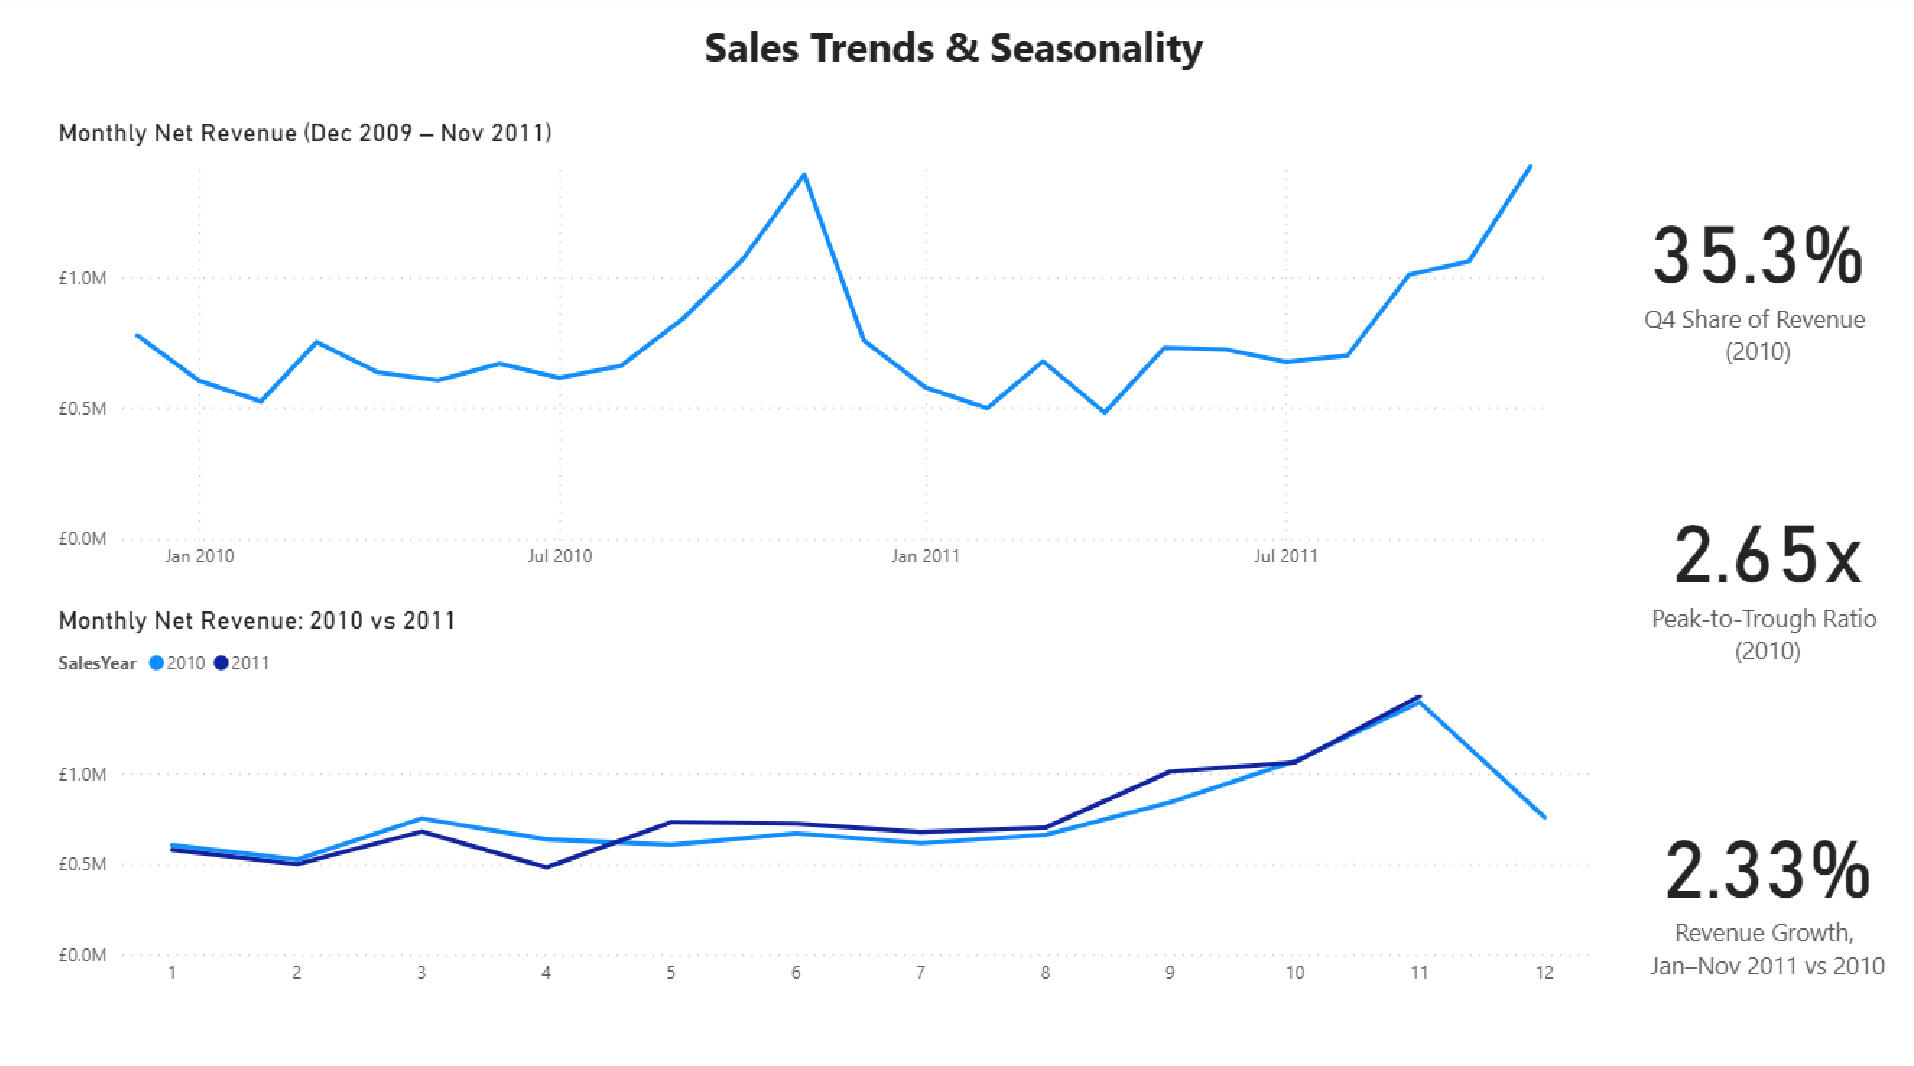

Layout of this report page (visuals, bound fields, positions):
{"tool":"powerbi","page":{"name":"Trends & Seasonality","canvas":[1280,720],"ordinal":1},"visuals":[{"type":"textbox","box":[415.8,12.3,446,57.6],"z":0},{"type":"lineChart","title":"Monthly Net Revenue (Dec 2009 – Nov 2011)","fields":{"Category":["vw_monthly_sales.MonthStart"],"Y":["Sum(vw_monthly_sales.NetRevenue)"]},"box":[35.7,82.3,1015.4,311.5],"z":1000},{"type":"card","fields":{"Values":["vw_monthly_sales.Q4_Share"]},"box":[1071.7,82.3,208.6,192.1],"z":2000},{"type":"card","fields":{"Values":["vw_monthly_sales.Peak_Ratio"]},"box":[1085.4,278.6,194.9,199],"z":3000},{"type":"lineChart","title":"Monthly Net Revenue: 2010 vs 2011","fields":{"Y":["Sum(vw_monthly_sales.NetRevenue)"],"Category":["vw_monthly_sales.SalesMonth"],"Series":["vw_monthly_sales.SalesYear"]},"box":[35.7,407.5,1036,263.5],"z":4000},{"type":"card","fields":{"Values":["vw_monthly_sales.YoY Growth Jan-Nov"]},"box":[1085.4,489.9,194.9,196.2],"z":5000}]}

Visuals, with their boxes in screenshot pixels (x1, y1, x2, y2), scaled from the page's 1280x720 canvas onto the 1914x1066 screenshot:
textbox: select_region(622, 18, 1289, 103)
"Monthly Net Revenue (Dec 2009 – Nov 2011)" lineChart: select_region(53, 122, 1572, 583)
card - vw_monthly_sales.Q4_Share: select_region(1603, 122, 1913, 406)
card - vw_monthly_sales.Peak_Ratio: select_region(1623, 412, 1913, 707)
"Monthly Net Revenue: 2010 vs 2011" lineChart: select_region(53, 603, 1603, 993)
card - vw_monthly_sales.YoY Growth Jan-Nov: select_region(1623, 725, 1913, 1016)
